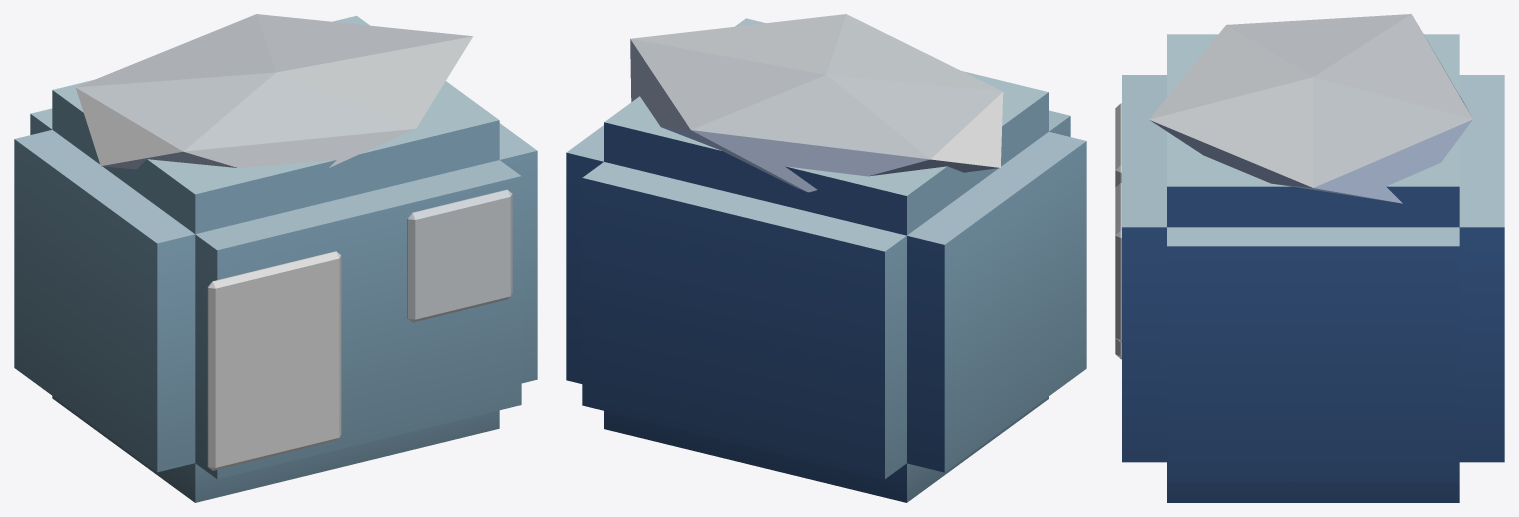
File: ice_block.glb
The picture shows the model from 3 angles, left to right: view 1: azimuth 30°, elevation 25°; view 2: azimuth 150°, elevation 25°; view 3: azimuth 270°, elevation 25°; orthographic projection. The views are drawn at different scales.
Visible parts, largest first — view 1: ice_block; view 2: ice_block; view 3: ice_block.
Boxes of the visible parts, left/top/right/bottom form: ice_block: left=14, top=14, right=537, bottom=502; ice_block: left=566, top=14, right=1086, bottom=502; ice_block: left=1115, top=14, right=1504, bottom=502.
Size of the model in its own units: 0.8151 by 0.6854 by 0.692.
